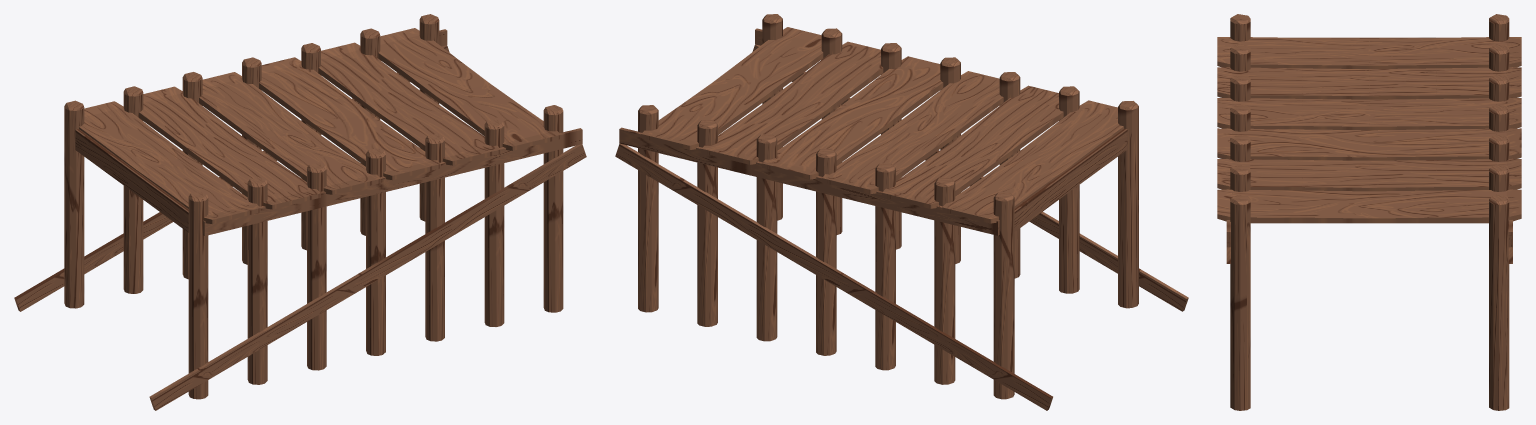
The model's file is Pier.fbx.
The picture shows the model from 3 angles, left to right: view 1: azimuth 30°, elevation 25°; view 2: azimuth 150°, elevation 25°; view 3: azimuth 270°, elevation 25°; orthographic projection. The views are drawn at different scales.
Visible parts, largest first — view 1: Cube, Cylinder.001, Cylinder.002, Cube.005, Cube.003, Cube.001, Cube.004; view 2: Cube, Cylinder.002, Cylinder.001, Cube.004, Cube.002, Cube.001, Cube.005; view 3: Cube, Cylinder.001, Cylinder.002.
Boxes of the visible parts, x1,y1,x2,y2 form: Cube: [79, 28, 560, 223]; Cylinder.001: [188, 105, 563, 399]; Cylinder.002: [64, 14, 439, 308]; Cube.005: [149, 144, 586, 410]; Cube.003: [203, 128, 582, 235]; Cube.001: [75, 129, 188, 232]; Cube.004: [14, 45, 449, 311]; Cube: [641, 27, 1123, 223]; Cylinder.002: [638, 105, 1014, 399]; Cylinder.001: [762, 14, 1138, 308]; Cube.004: [615, 143, 1052, 410]; Cube.002: [619, 127, 999, 235]; Cube.001: [1014, 128, 1127, 231]; Cube.005: [752, 44, 1188, 311]; Cube: [1217, 37, 1521, 223]; Cylinder.001: [1230, 14, 1250, 410]; Cylinder.002: [1489, 14, 1509, 410].
Size of the model in its own units: 688 by 302 by 400.
